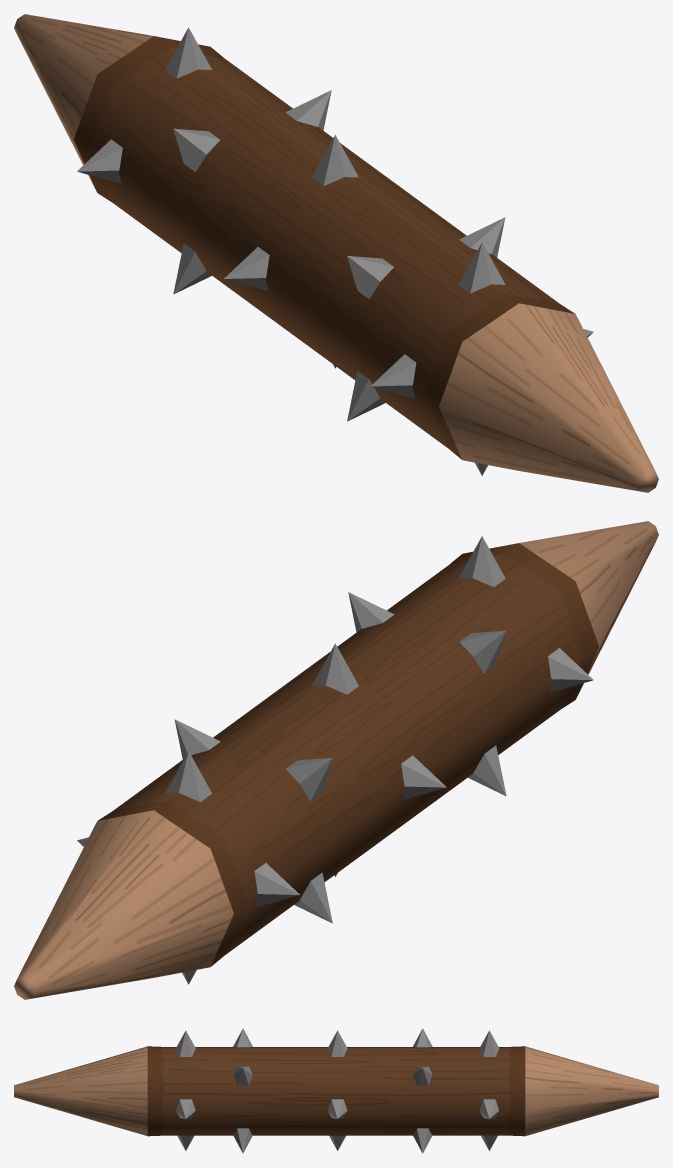
File: LogSpikes.fbx
3 renders of one model, top to bottom at view 1: azimuth 30°, elevation 25°; view 2: azimuth 150°, elevation 25°; view 3: azimuth 270°, elevation 25°, orthographic. The views are drawn at different scales.
Parts seen in each view (by area): view 1: Cylinder.002, Cone.019; view 2: Cylinder.002, Cone.019; view 3: Cylinder.002, Cone.019.
Boxes of the visible parts, left/top/right/bottom form: Cylinder.002: left=14, top=14, right=658, bottom=492; Cone.019: left=77, top=27, right=593, bottom=475; Cylinder.002: left=14, top=521, right=658, bottom=999; Cone.019: left=77, top=536, right=593, bottom=984; Cylinder.002: left=14, top=1046, right=658, bottom=1136; Cone.019: left=176, top=1028, right=499, bottom=1153.
Size of the model in its own units: 64.99 by 64.99 by 314.
2 materials, 1 textured.
